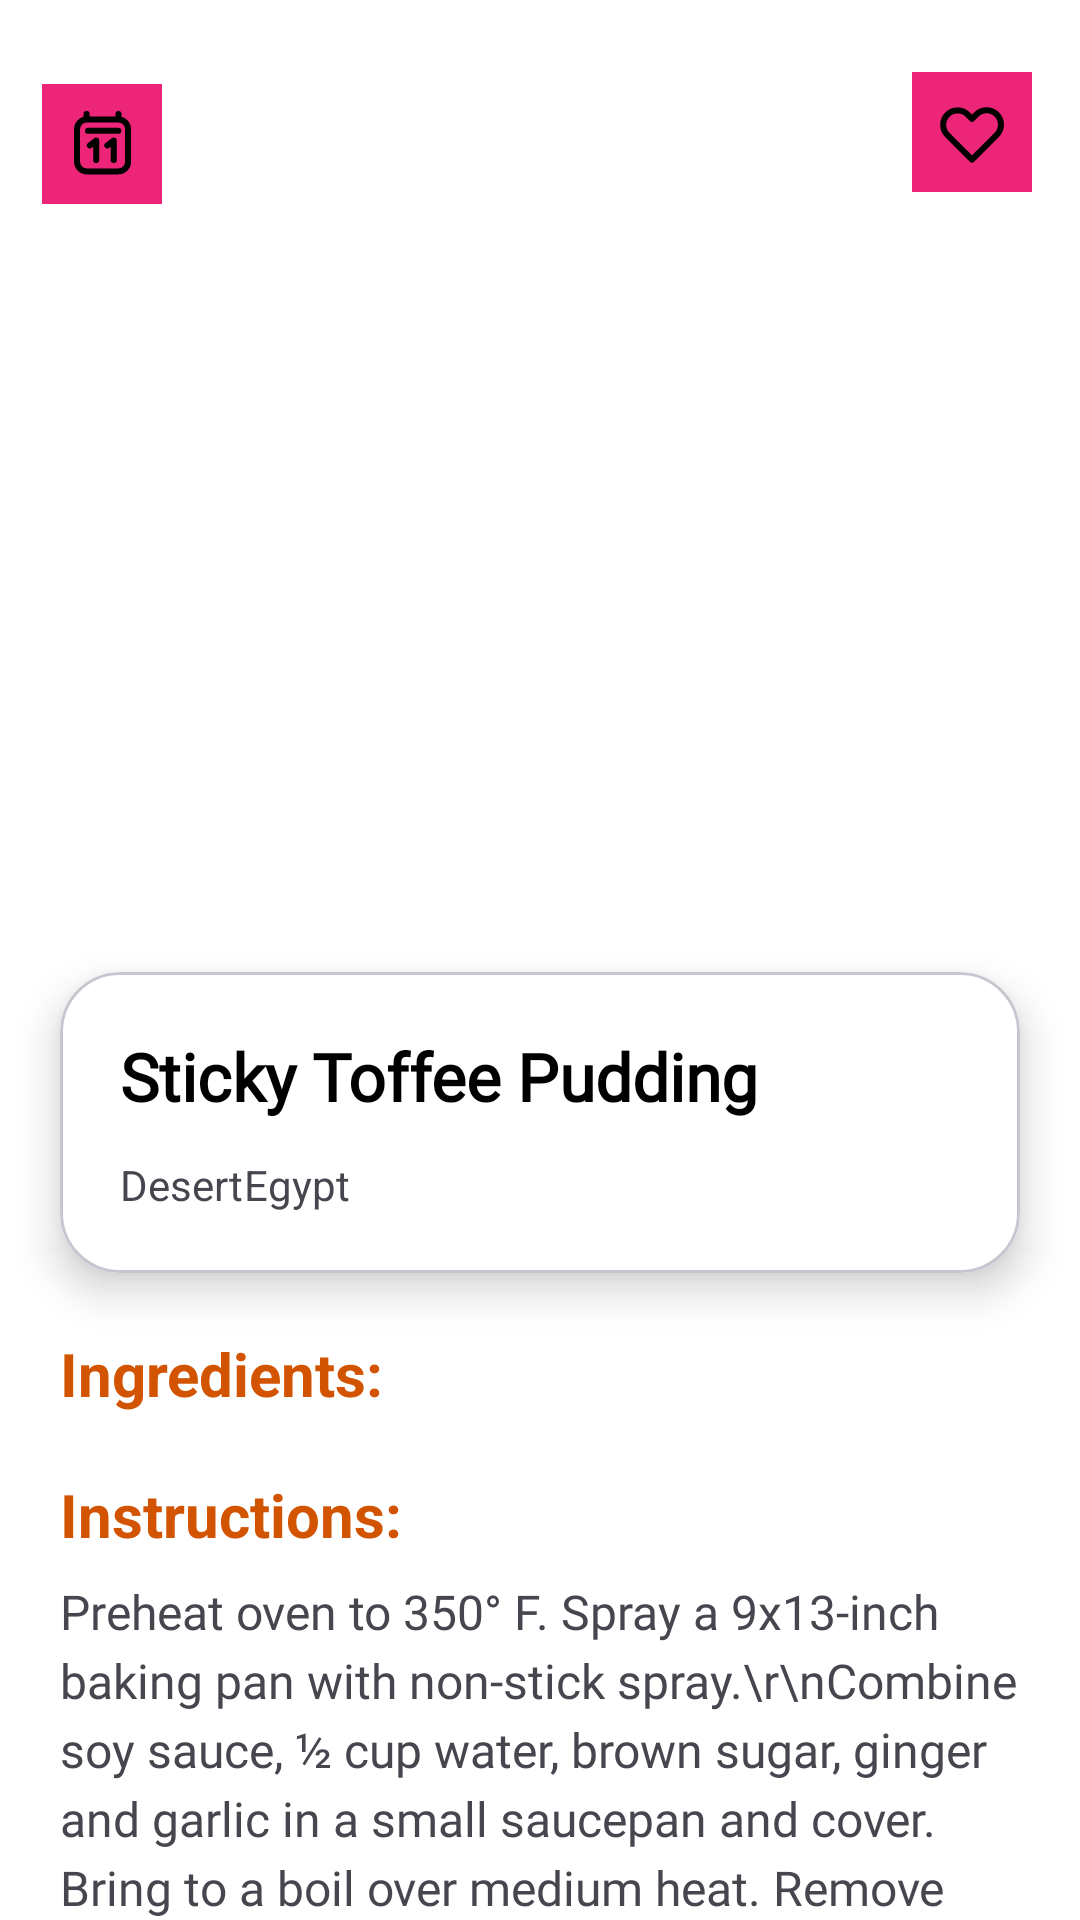

Where to tap for icons on this 1080w x 1920h app screen, as [x,y]:
bottom nav bar calendar: [102,144]
bottom nav bar heart: [972,132]
